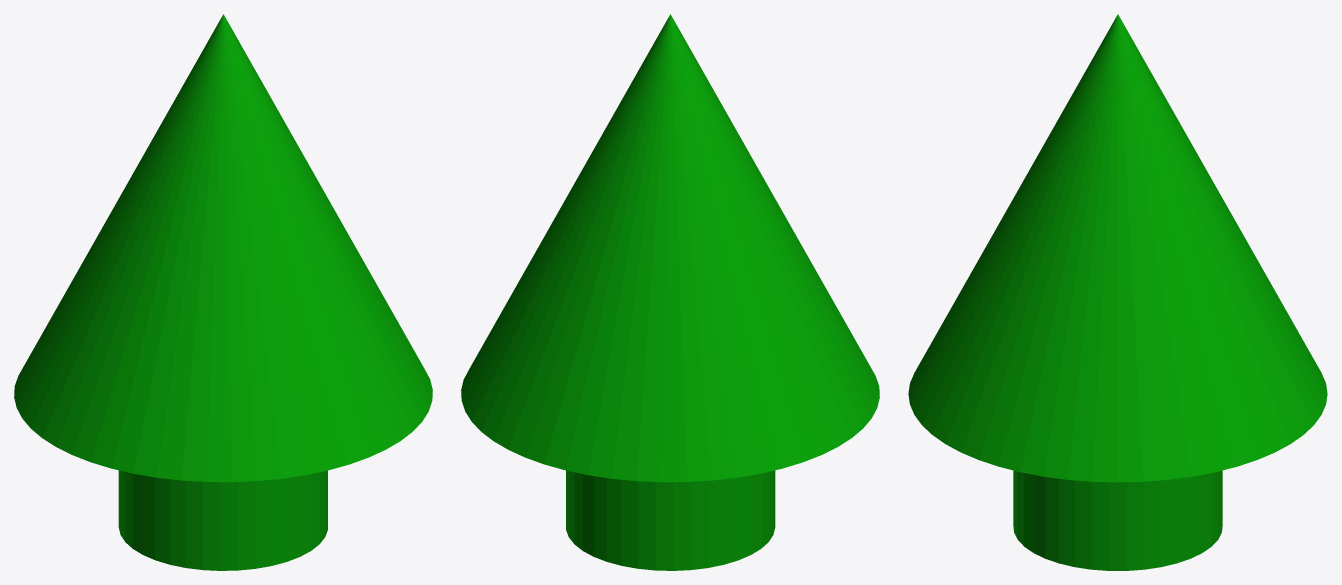
Rendered from Tree.glb.
3 renders of one model, left to right at view 1: azimuth 30°, elevation 25°; view 2: azimuth 150°, elevation 25°; view 3: azimuth 270°, elevation 25°, orthographic.
Parts seen in each view (by area): view 1: Tree; view 2: Tree; view 3: Tree.
Part boxes in pixels (x1,y1,x2,y2): Tree: [14, 14, 432, 570]; Tree: [461, 14, 879, 570]; Tree: [908, 14, 1327, 570].
Bounding box in the file's own units: 1.25 × 1.69 × 1.25.
